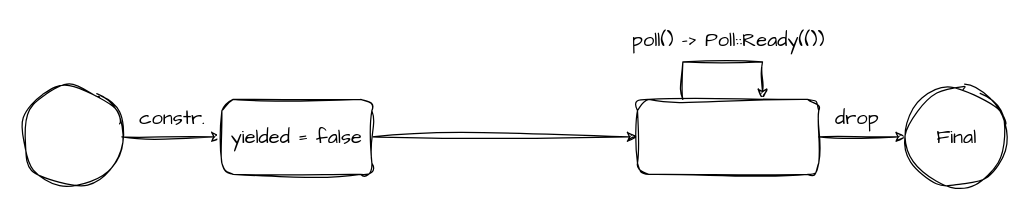
Image size: 1029x209. Some labels were removed from this diagram. Here are the shapes that lost their labels. From the top down, the centre of each, then its label:
At pixel 71 136: "Inital".
At pixel 727 136: "yielded = true".
